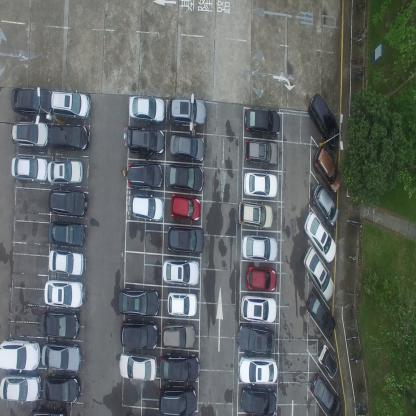car: (306, 90, 338, 146), (302, 244, 334, 299), (302, 210, 334, 259), (306, 288, 336, 339), (310, 372, 342, 416), (0, 339, 40, 373), (160, 351, 200, 384), (312, 144, 340, 191), (122, 125, 164, 156), (120, 317, 159, 350), (10, 87, 51, 118), (118, 285, 159, 316), (312, 181, 339, 228), (167, 223, 205, 256), (168, 95, 207, 127), (51, 90, 92, 120), (39, 310, 80, 340), (41, 342, 82, 372), (0, 374, 41, 404), (162, 256, 200, 288), (237, 323, 276, 354), (238, 354, 278, 384), (169, 132, 206, 164), (42, 373, 80, 404), (119, 351, 157, 382), (165, 163, 204, 193), (48, 188, 87, 218), (44, 278, 84, 307), (159, 385, 197, 415), (239, 385, 277, 415), (128, 192, 164, 223), (126, 162, 163, 192), (240, 293, 277, 323), (127, 93, 165, 122), (11, 120, 49, 149), (244, 137, 280, 167), (10, 154, 48, 182), (241, 233, 277, 262), (49, 125, 89, 151), (48, 220, 85, 248), (162, 318, 196, 348), (238, 199, 272, 229), (245, 105, 281, 133), (48, 249, 84, 276), (48, 159, 84, 185), (169, 193, 201, 222), (244, 171, 278, 198), (168, 288, 198, 316), (246, 263, 277, 289), (318, 342, 338, 379), (28, 406, 68, 416)
